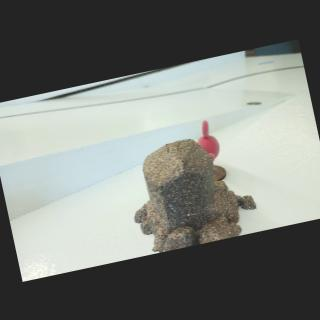teletubby: (197, 120, 219, 161)
